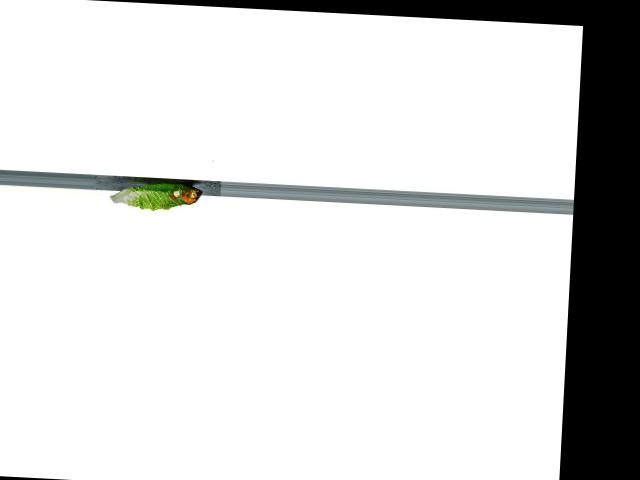lettuce: (108, 175, 206, 216)
